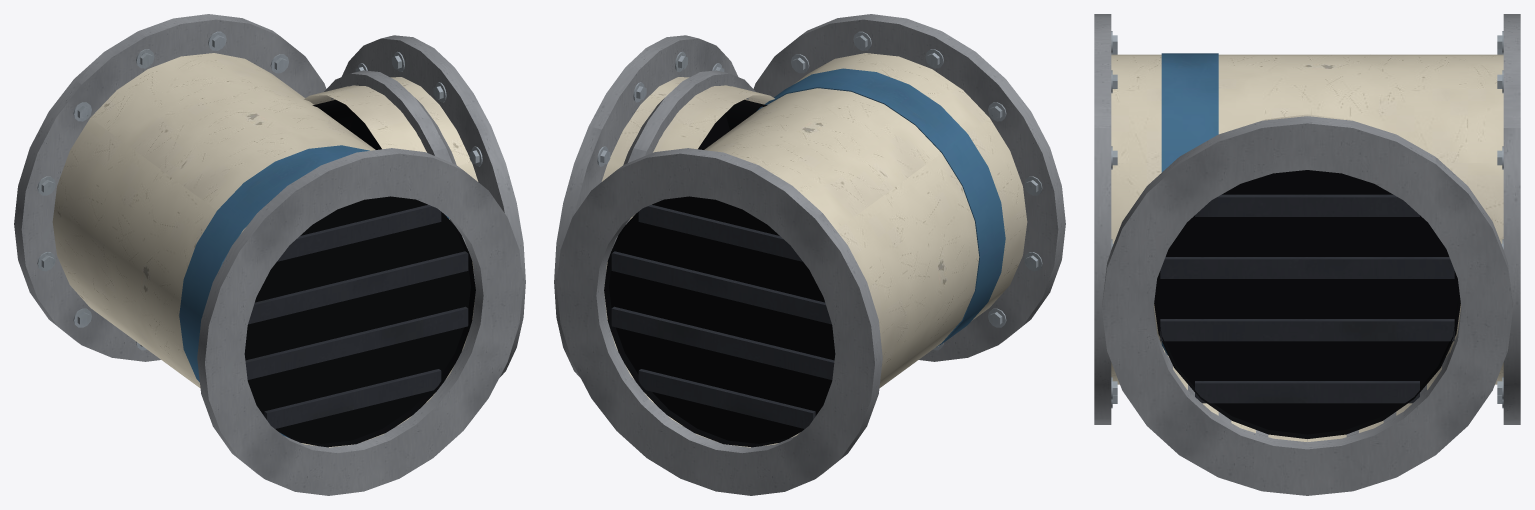
Rendered from main_pipe_tee.glb.
The picture shows the model from 3 angles, left to right: view 1: azimuth 30°, elevation 25°; view 2: azimuth 150°, elevation 25°; view 3: azimuth 270°, elevation 25°; orthographic projection. The views are drawn at different scales.
Visible parts, largest first — view 1: Body.007; view 2: Body.007; view 3: Body.007.
Boxes of the visible parts, <box> form: Body.007: <box>14,14,525,495</box>; Body.007: <box>554,14,1065,495</box>; Body.007: <box>1094,14,1520,495</box>.
Size of the model in its own units: 0.7335 by 0.72 by 0.747.
Materials: 6 (5 with a texture image).
